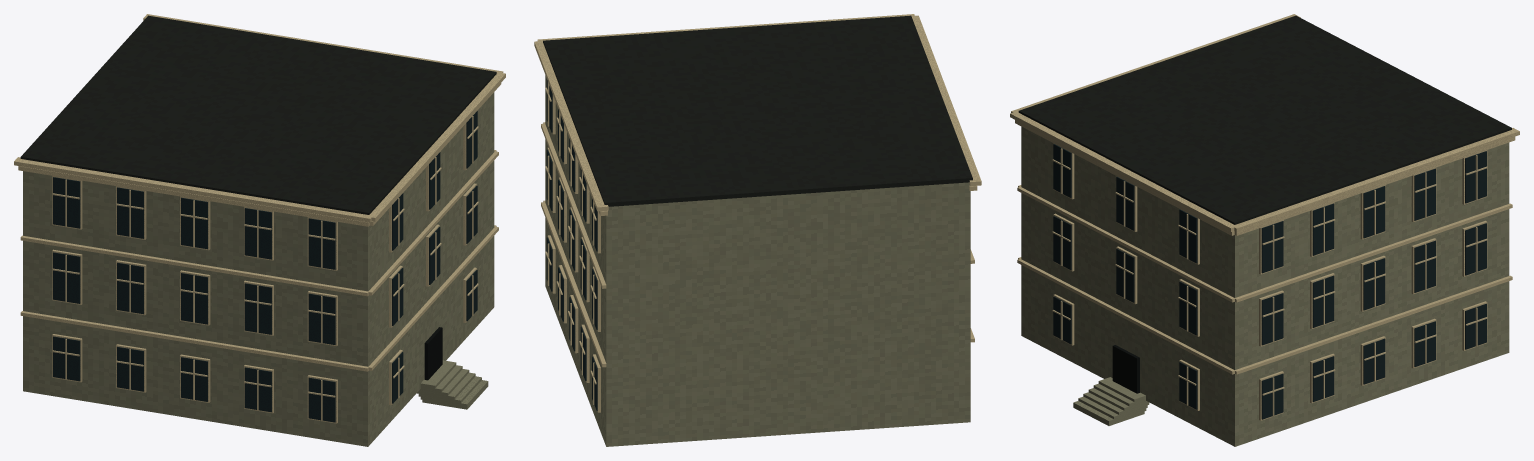
The picture shows the model from 3 angles, left to right: view 1: azimuth 30°, elevation 25°; view 2: azimuth 150°, elevation 25°; view 3: azimuth 270°, elevation 25°; orthographic projection. The views are drawn at different scales.
Visible parts, largest first — view 1: scheepmakershaven-0, scheepmakershaven-1, scheepmakershaven-2, scheepmakershaven-3, scheepmakershaven-4; view 2: scheepmakershaven-0, scheepmakershaven-1, scheepmakershaven-2, scheepmakershaven-3; view 3: scheepmakershaven-0, scheepmakershaven-1, scheepmakershaven-2, scheepmakershaven-3, scheepmakershaven-4.
Boxes of the visible parts, x1=… form: scheepmakershaven-0: x1=23, y1=92, x2=494, y2=446; scheepmakershaven-1: x1=20, y1=15, x2=496, y2=214; scheepmakershaven-2: x1=14, y1=14, x2=505, y2=423; scheepmakershaven-3: x1=53, y1=111, x2=477, y2=422; scheepmakershaven-4: x1=424, y1=327, x2=442, y2=380; scheepmakershaven-0: x1=545, y1=75, x2=970, y2=446; scheepmakershaven-1: x1=543, y1=15, x2=972, y2=206; scheepmakershaven-2: x1=534, y1=14, x2=981, y2=412; scheepmakershaven-3: x1=546, y1=79, x2=597, y2=410; scheepmakershaven-0: x1=1021, y1=126, x2=1509, y2=446; scheepmakershaven-1: x1=1018, y1=15, x2=1511, y2=224; scheepmakershaven-2: x1=1010, y1=14, x2=1519, y2=420; scheepmakershaven-3: x1=1053, y1=144, x2=1486, y2=419; scheepmakershaven-4: x1=1112, y1=345, x2=1139, y2=393.
Size of the model in its own units: 28.72 by 14.84 by 28.83.
5 materials, 5 textured.
